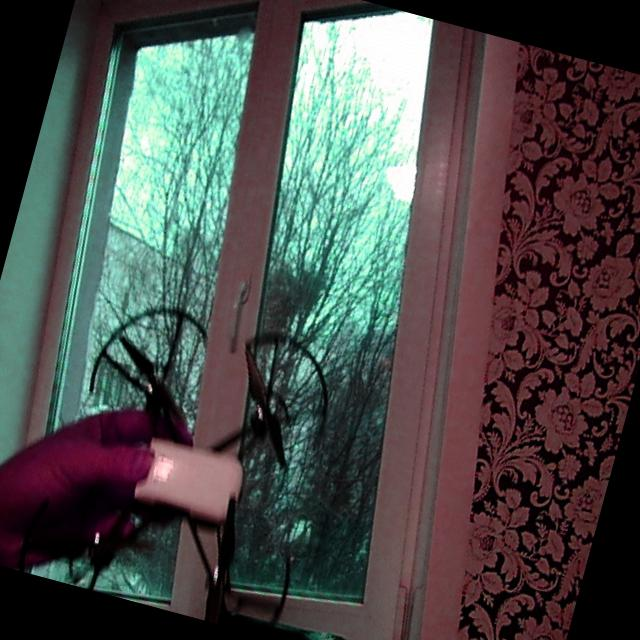drone: (8, 272, 367, 640)
